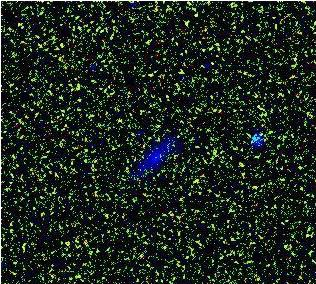star: (221, 147, 251, 177)
